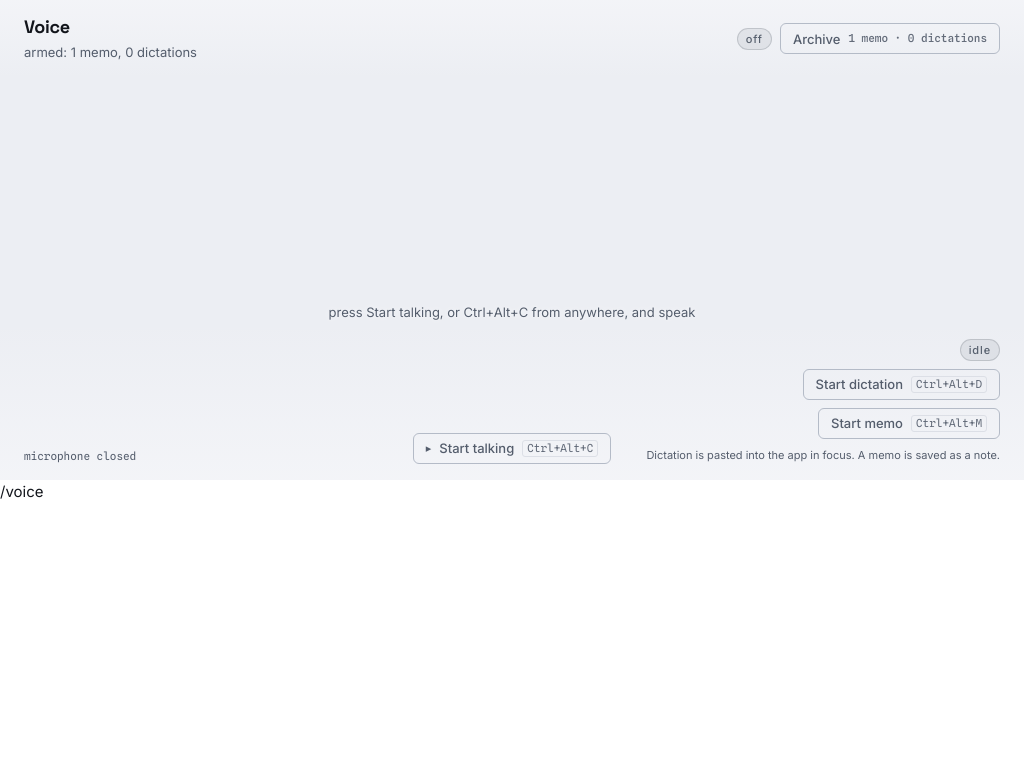
Test: Voice — capture outcomes › shows the memos list with a working delete
# The lists live in the archive drawer now, closed until somebody asks for it.
Step 1. Click the button "Archive 1 memo · 0 dictations" → [890, 39], box [780,23,1000,54]
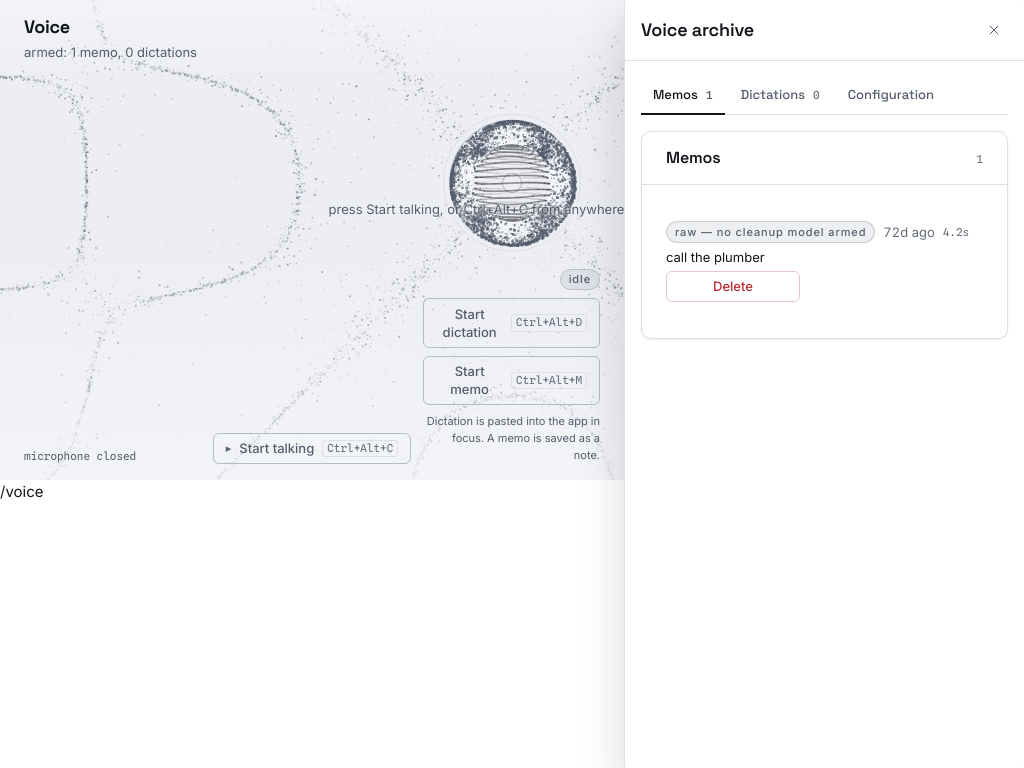
Now the text "call the plumber" is shown, box [666,249,765,265]
